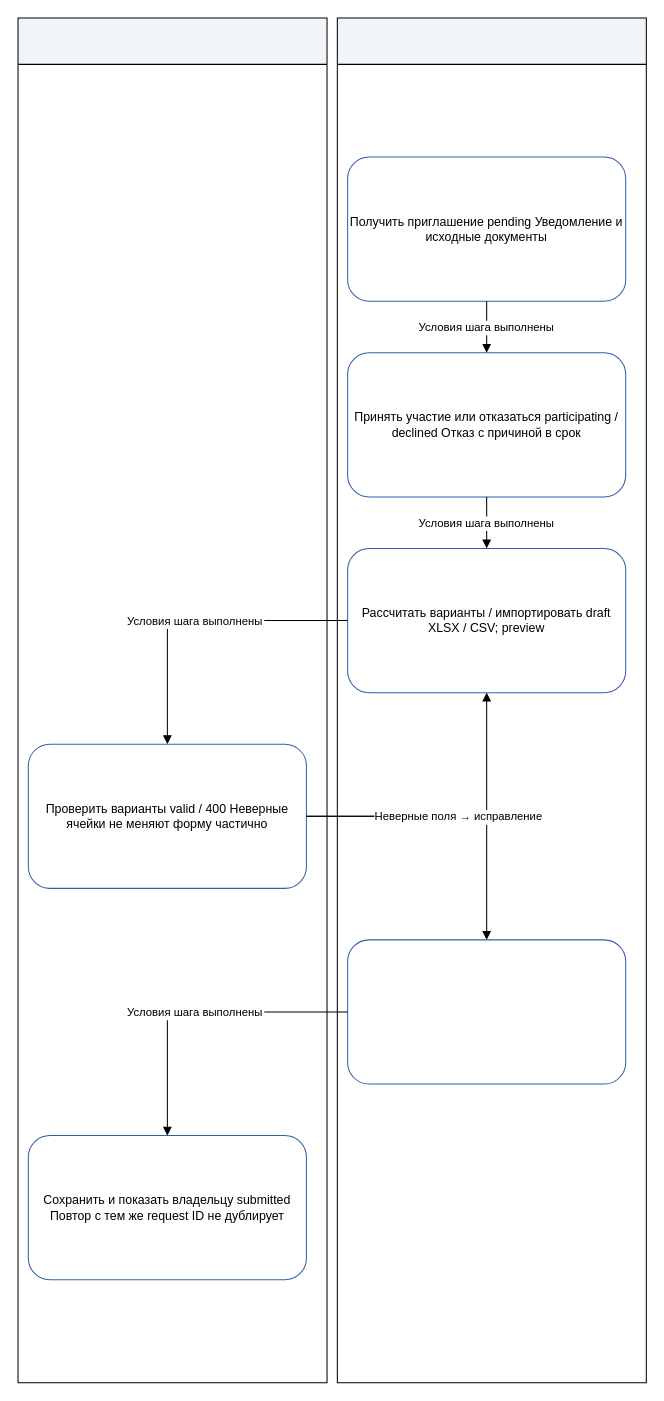
Some shapes in this 664 by 1401 pixel diagram are drawn without their labels. Each missing label, with the box of its shape:
Отправить варианты pending Явная отправка всех вариантов: (347, 939, 626, 1084)
Перевозчик: (336, 17, 646, 1383)
Система: (17, 17, 327, 1383)
